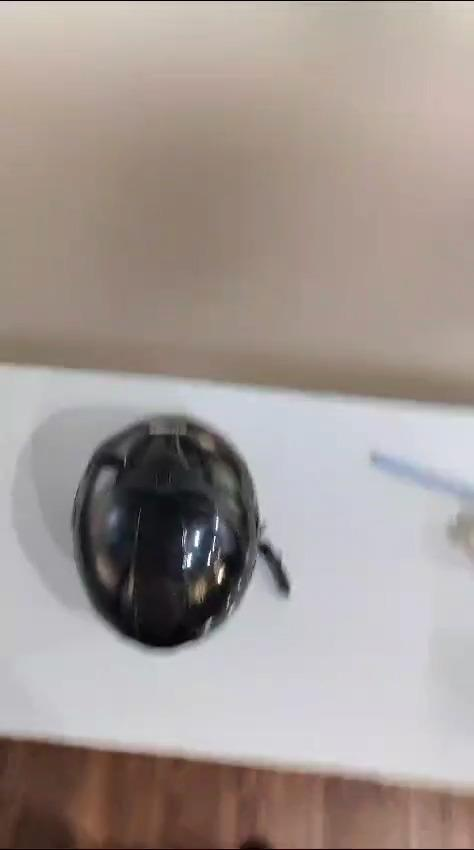Helmet: (72, 406, 276, 662)
